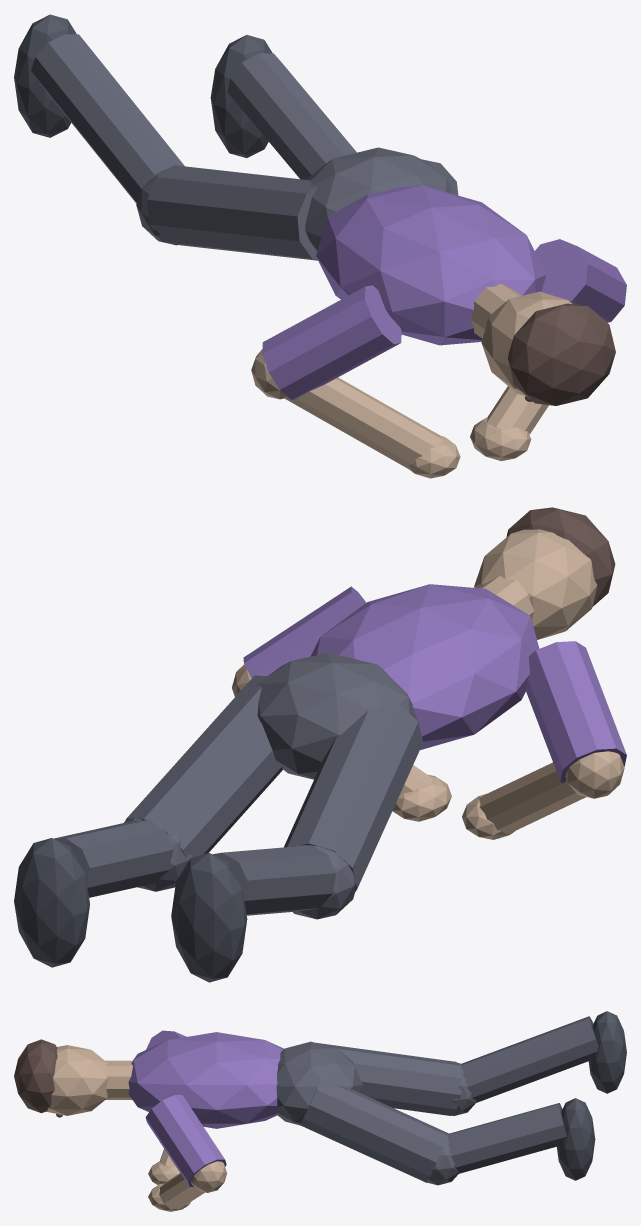
3 views of the same model, one above another, from view 1: azimuth 30°, elevation 25°; view 2: azimuth 150°, elevation 25°; view 3: azimuth 270°, elevation 25° (orthographic). The views are drawn at different scales.
Parts seen in each view (by area): view 1: world; view 2: world; view 3: world.
Boxes of the visible parts, bbox=[...] form: world: bbox=[14, 14, 626, 478]; world: bbox=[14, 507, 626, 982]; world: bbox=[14, 1011, 626, 1211].
Size of the model in its own units: 0.93 by 0.57 by 2.01.
